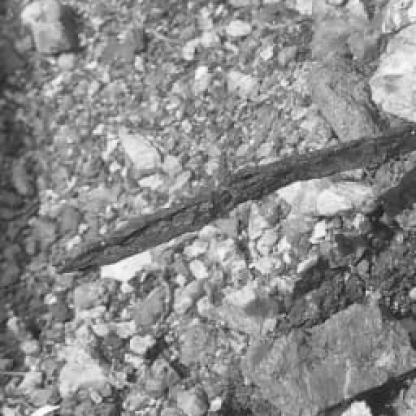cementitious_debris: (0, 2, 414, 414)
